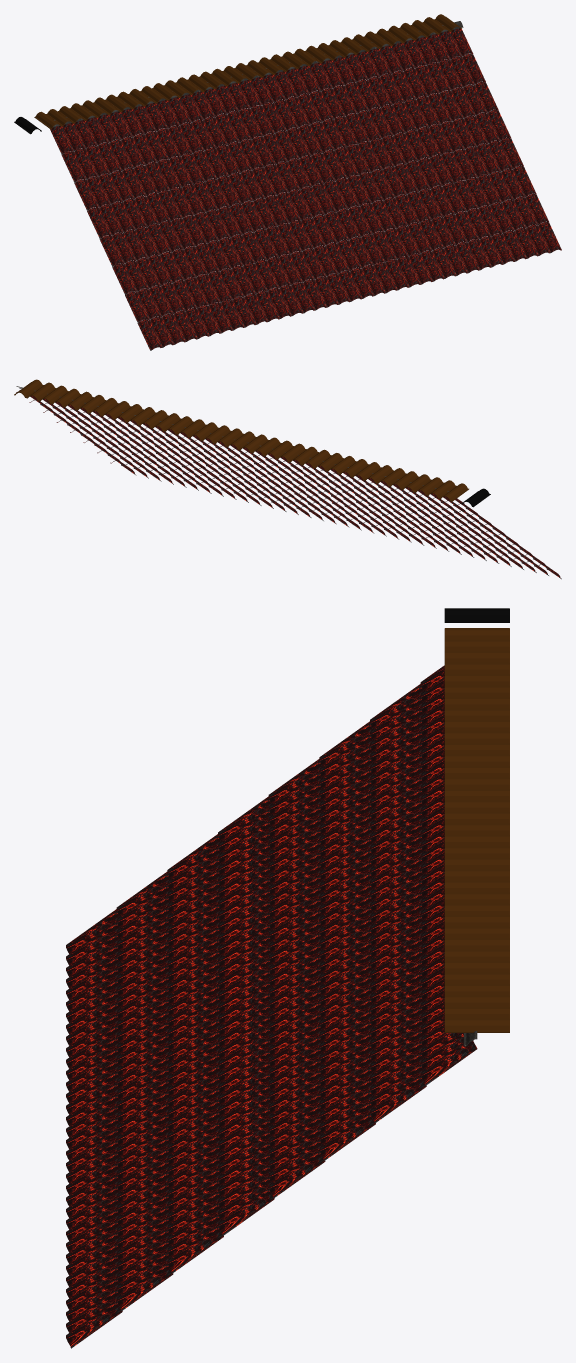
The model's file is Project Name.gltf.
3 views of the same model, one above another, from view 1: azimuth 30°, elevation 25°; view 2: azimuth 150°, elevation 25°; view 3: azimuth 270°, elevation 25° (orthographic). The views are drawn at different scales.
Parts seen in each view (by area): view 1: ROOF ROOF_T, ORIGINALES TEJAS_HILERA, ROOF; view 2: ROOF ROOF_T, ORIGINALES TEJAS_HILERA; view 3: ROOF ROOF_T, ORIGINALES TEJAS_HILERA, ORIGINALES TEJA.
Part boxes in pixels (x1=…): ROOF ROOF_T: x1=50, y1=28, x2=561, y2=350; ORIGINALES TEJAS_HILERA: x1=34, y1=14, x2=461, y2=129; ROOF: x1=53, y1=21, x2=463, y2=127; ROOF ROOF_T: x1=16, y1=390, x2=561, y2=579; ORIGINALES TEJAS_HILERA: x1=14, y1=379, x2=468, y2=501; ROOF ROOF_T: x1=66, y1=665, x2=477, y2=1348; ORIGINALES TEJAS_HILERA: x1=444, y1=628, x2=509, y2=1032; ORIGINALES TEJA: x1=444, y1=608, x2=509, y2=622.
Bounding box in the file's own units: 0.0619 × 0.0214 × 0.0271.
5 materials, 2 textured.
